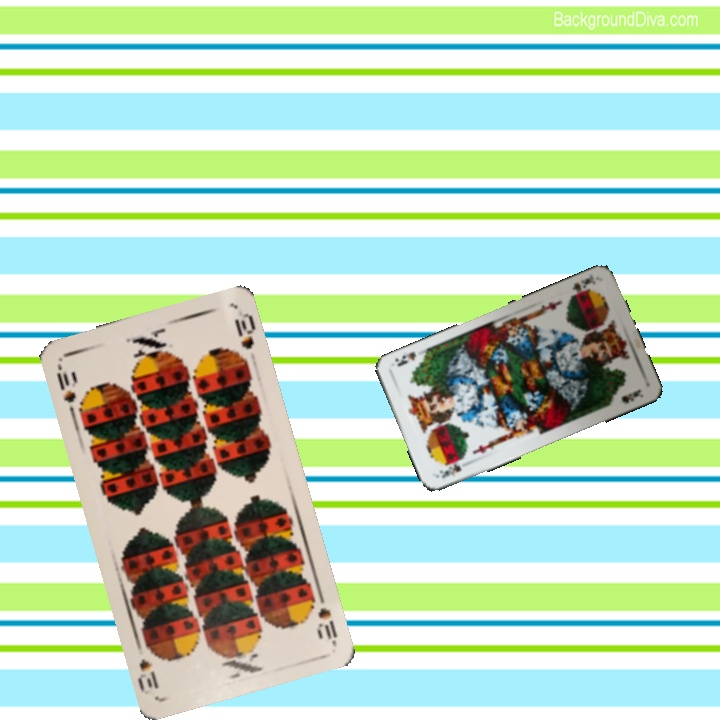S10: (313, 587, 340, 645), (52, 359, 79, 406)
SK: (566, 271, 598, 301), (435, 459, 464, 481)
